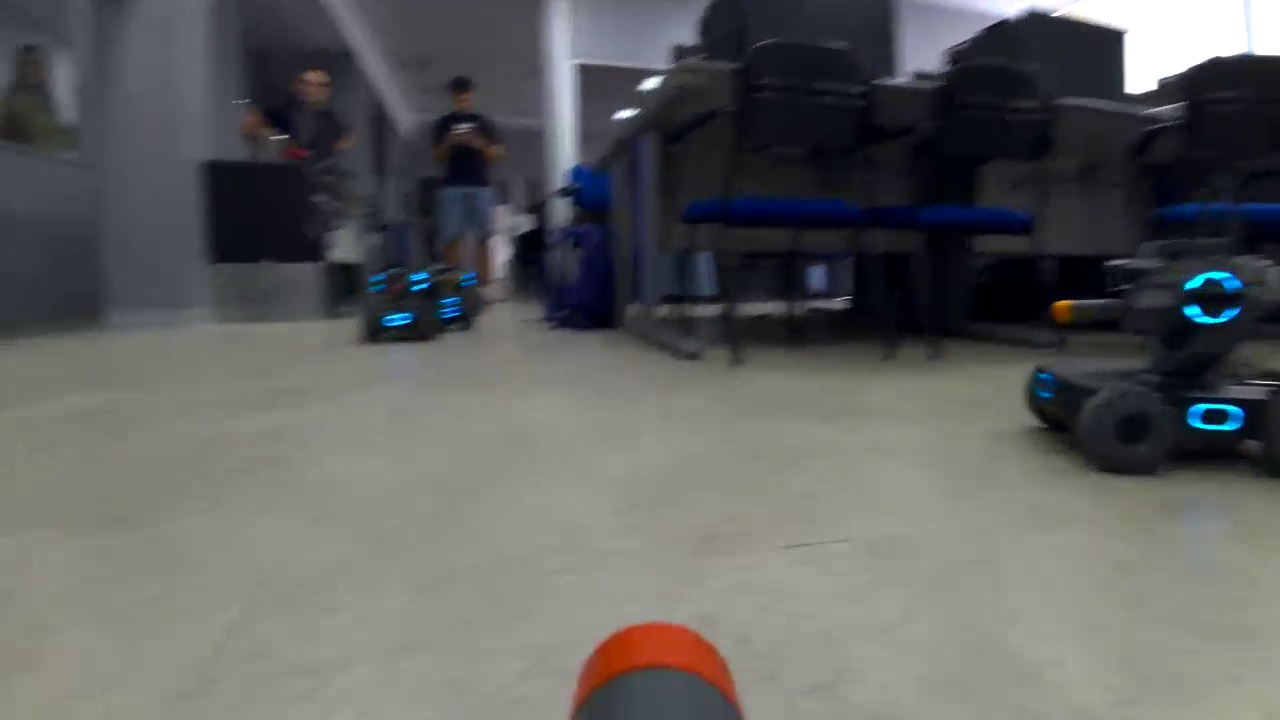robot: (1019, 227, 1280, 483), (361, 261, 440, 348), (414, 253, 483, 339)
